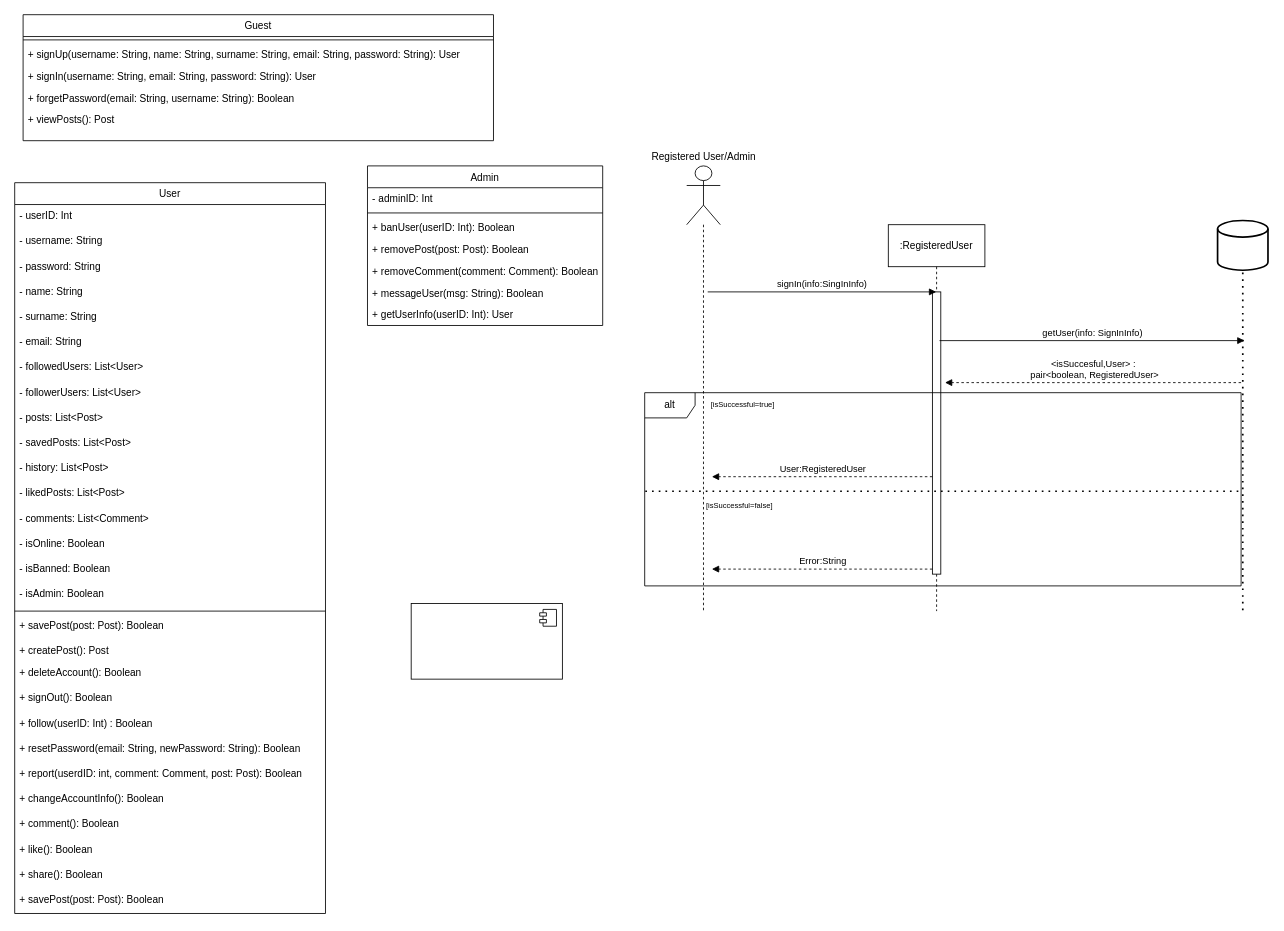
This 1284x931 diagram has some shape labels left out. The centre of each missing label's shape, as x and y in pixels:
User DB: point (1242, 245)
userData: { username: String, email: String, password: String, }: point (486, 641)
